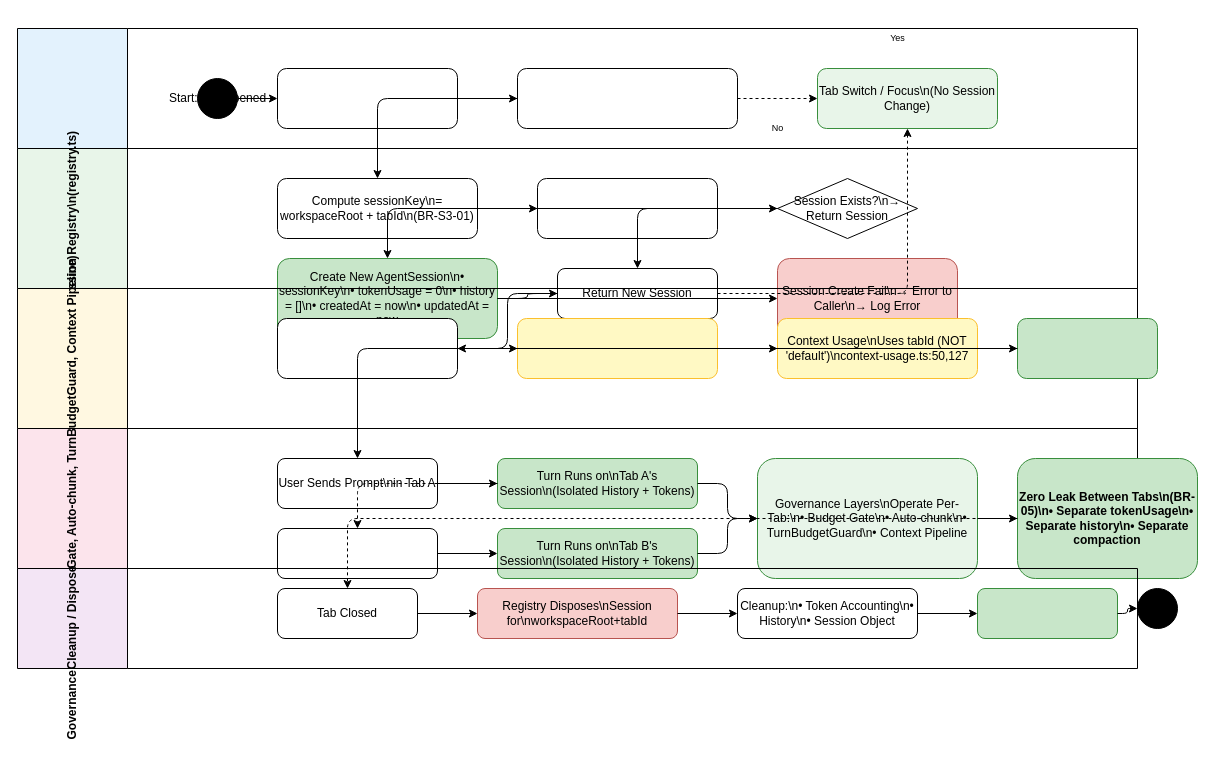
Image size: 1215x758. Some labels were removed from this diagram. Here are the shapes that lost their labels. From the top down, the box of each, then its label:
(276, 68, 458, 128): User Opens New Tab\n→ Generate tabId
(16, 28, 1138, 148): ChatPanel / Tab Manager
(516, 68, 738, 128): Request Session\ngetOrCreateSession(workspaceRoot, tabId)
(536, 178, 718, 238): Check Registry\nfor Existing Session
(276, 318, 458, 378): Initialize Session\nwith tabId for\nToken Accounting\n(BR-S3-02)
(16, 288, 1138, 428): Session Host
(516, 318, 718, 378): Context Compaction\nUses tabId (NOT 'default')\ncontext-compaction.ts:24
(1016, 318, 1158, 378): Session Ready\nfor Turns
(276, 528, 438, 578): User Sends Prompt\nin Tab B
(976, 588, 1118, 638): Other Tabs\nUnaffected
